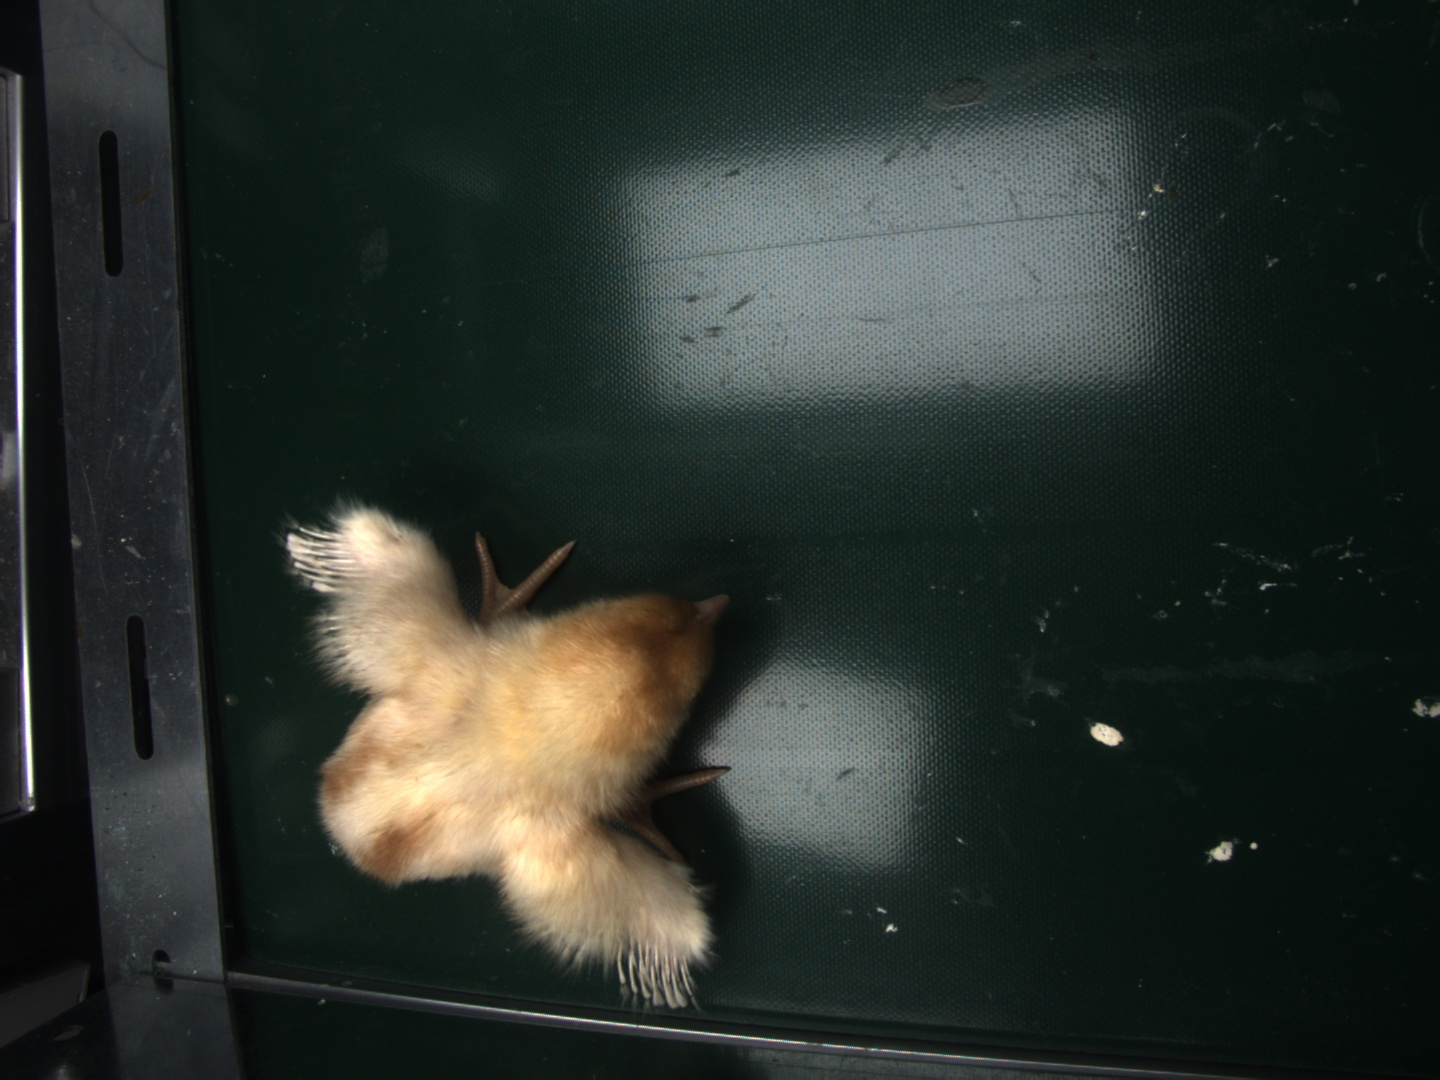female: (617, 943, 694, 996)
